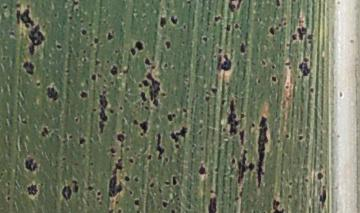tarspot: (254, 110, 271, 190), (146, 71, 168, 109), (24, 23, 48, 57), (108, 154, 124, 198), (236, 144, 254, 183), (95, 91, 109, 135), (226, 96, 238, 140), (42, 82, 62, 105), (168, 123, 190, 143), (15, 8, 38, 27), (297, 55, 314, 79), (22, 154, 41, 175), (153, 131, 165, 164), (22, 181, 42, 200), (20, 58, 37, 79), (315, 188, 332, 206), (58, 183, 74, 202), (267, 197, 286, 213), (216, 56, 234, 72), (206, 195, 221, 213), (137, 117, 150, 137), (226, 1, 245, 14), (297, 22, 308, 42), (195, 162, 209, 177), (157, 13, 168, 31), (131, 37, 145, 51), (107, 63, 120, 78), (164, 109, 179, 122), (234, 187, 247, 202), (38, 125, 52, 138), (266, 24, 278, 39), (114, 131, 126, 145), (137, 91, 149, 105), (238, 128, 247, 146), (237, 40, 247, 56), (168, 14, 180, 27), (161, 39, 174, 51), (314, 170, 328, 181), (104, 31, 117, 42), (142, 55, 153, 68), (207, 83, 220, 94), (79, 87, 89, 101), (199, 33, 210, 45), (106, 146, 122, 154), (268, 73, 279, 84), (211, 13, 222, 24), (286, 31, 297, 42), (170, 174, 180, 186), (64, 12, 77, 21), (232, 18, 240, 32), (76, 135, 86, 146), (91, 57, 102, 67), (132, 197, 142, 208), (140, 77, 150, 88), (224, 22, 233, 34), (271, 1, 286, 8), (307, 30, 315, 43), (122, 173, 132, 183), (258, 57, 268, 67), (89, 72, 98, 83), (308, 84, 317, 95), (285, 191, 294, 202), (283, 59, 297, 66), (199, 142, 207, 154), (237, 112, 249, 120), (70, 1, 83, 8), (79, 27, 88, 37), (130, 116, 139, 126), (127, 156, 136, 166), (283, 131, 293, 140), (208, 185, 216, 196), (217, 96, 228, 104), (282, 83, 293, 91), (8, 28, 17, 37), (1, 3, 10, 12), (54, 42, 63, 51), (212, 166, 221, 175), (202, 93, 211, 102), (180, 106, 188, 116), (95, 189, 105, 197), (162, 178, 170, 188), (131, 175, 141, 183), (117, 104, 125, 113), (108, 107, 116, 116), (145, 153, 153, 162), (104, 207, 116, 213), (229, 155, 237, 164), (161, 61, 169, 70), (129, 46, 136, 56), (67, 131, 74, 141), (172, 143, 182, 150), (161, 199, 168, 209), (296, 135, 306, 142), (13, 1, 21, 9), (112, 198, 121, 205), (216, 46, 223, 55), (60, 154, 67, 163), (280, 21, 289, 28), (73, 115, 79, 125), (183, 1, 195, 6), (5, 195, 12, 203), (86, 183, 93, 191), (92, 36, 99, 44), (91, 105, 98, 113), (221, 126, 228, 134), (149, 180, 155, 189), (87, 162, 97, 167), (34, 80, 41, 87), (169, 206, 176, 213), (20, 118, 26, 125), (250, 121, 255, 129), (270, 61, 274, 71)
